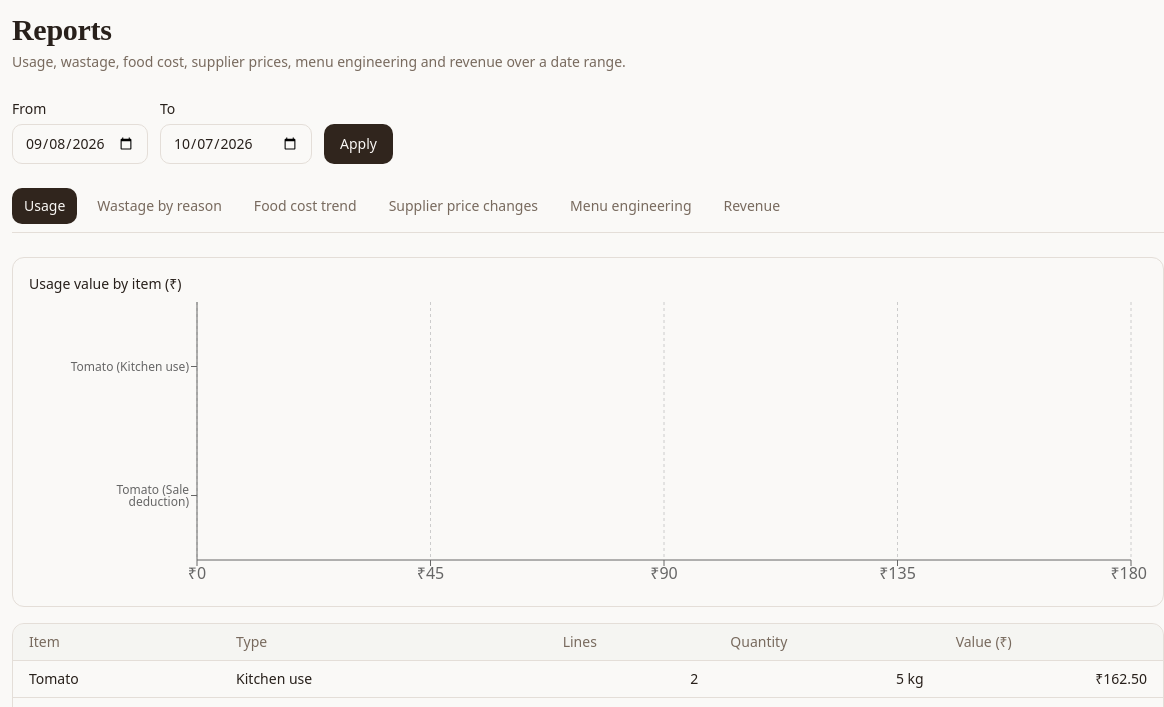
Test: ReportsPage › shows price change events with the signed change percentage
Click the tab "Supplier price changes".
click(463, 206)  # box [377,188,550,224]
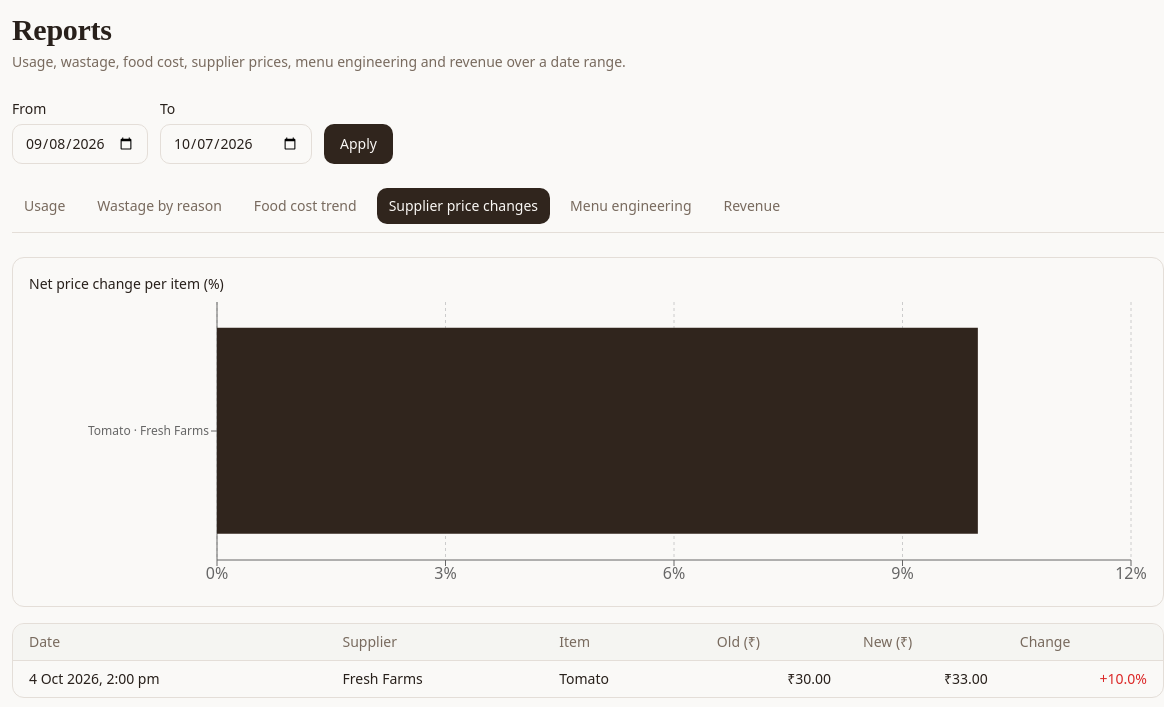
Expected: the text "Fresh Farms" is shown, [326,661,543,697]
Expected: the text "+10.0%" is shown, [1100,669,1147,688]
